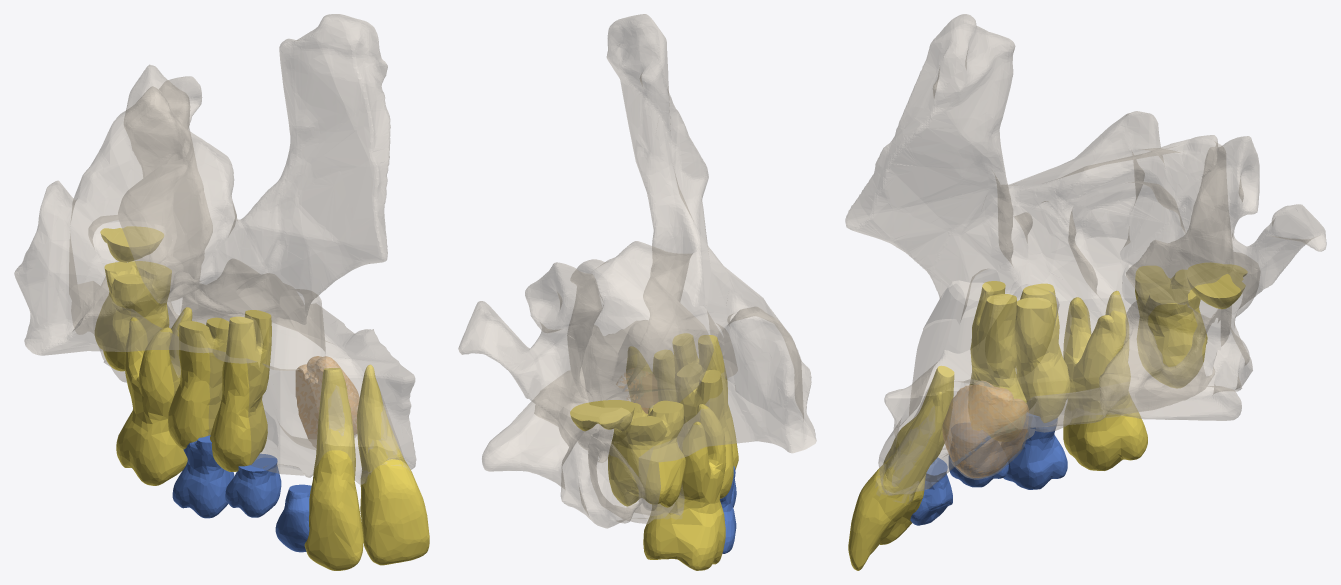
The model's file is removal-after.glb.
3 views of the same model, side by side, from view 1: azimuth 30°, elevation 25°; view 2: azimuth 150°, elevation 25°; view 3: azimuth 270°, elevation 25° (orthographic). The views are drawn at different scales.
Visible parts, largest first — view 1: bone, teeth, baby-teeth, removed bone, baby-canine; view 2: bone, teeth, baby-teeth, removed bone; view 3: bone, teeth, removed bone, baby-teeth, baby-canine.
Part boxes in pixels (<box>): bone: <box>14,14,416,484</box>; teeth: <box>94,226,429,570</box>; baby-teeth: <box>172,435,281,518</box>; removed bone: <box>295,356,359,447</box>; baby-canine: <box>275,484,311,552</box>; bone: <box>458,14,816,528</box>; teeth: <box>570,333,738,570</box>; baby-teeth: <box>720,466,736,553</box>; removed bone: <box>616,368,657,413</box>; bone: <box>845,14,1326,503</box>; teeth: <box>848,262,1247,570</box>; removed bone: <box>942,381,1028,477</box>; baby-teeth: <box>948,413,1067,489</box>; baby-canine: <box>910,457,952,525</box>.
Bounding box in the file's own units: 0.0451 × 0.0795 × 0.0637.
